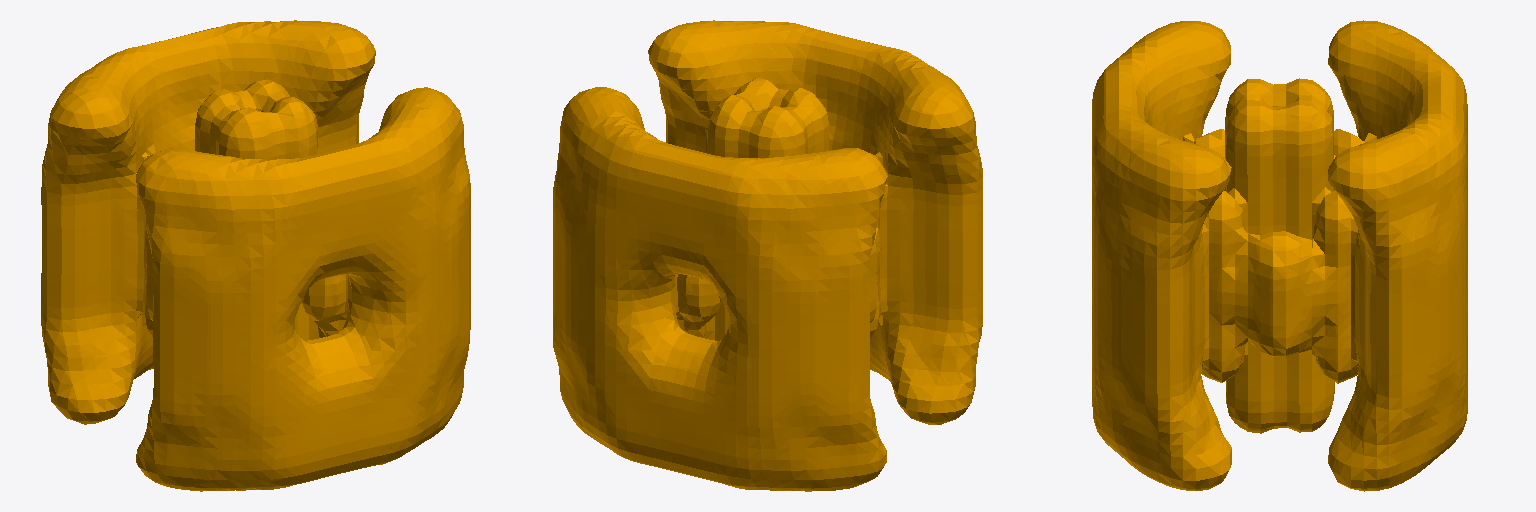
robot.urdf — object:
<?xml version="1.0"?>
<robot name="object">
  <link name="object">
    <visual>
      <origin xyz="0 0 0"/>
      <geometry>
        <mesh filename="meshes/subset_100_scaled/egad_K15_3_s.obj" scale=".03 .03 .03"/>
      </geometry>
    </visual>
    <collision>
  <origin xyz="0 0 0"/>
  <geometry>
    <mesh filename="meshes/subset_100_scaled/egad_K15_3_s_0decompose.obj" scale=".03 .03 .03"/>
<!--          <mesh filename="meshes/custom/obj0_ball.obj" scale=".05 .05 .05"/>-->
  </geometry>
</collision><collision>
  <origin xyz="0 0 0"/>
  <geometry>
    <mesh filename="meshes/subset_100_scaled/egad_K15_3_s_1decompose.obj" scale=".03 .03 .03"/>
<!--          <mesh filename="meshes/custom/obj0_ball.obj" scale=".05 .05 .05"/>-->
  </geometry>
</collision><collision>
  <origin xyz="0 0 0"/>
  <geometry>
    <mesh filename="meshes/subset_100_scaled/egad_K15_3_s_2decompose.obj" scale=".03 .03 .03"/>
<!--          <mesh filename="meshes/custom/obj0_ball.obj" scale=".05 .05 .05"/>-->
  </geometry>
</collision><collision>
  <origin xyz="0 0 0"/>
  <geometry>
    <mesh filename="meshes/subset_100_scaled/egad_K15_3_s_3decompose.obj" scale=".03 .03 .03"/>
<!--          <mesh filename="meshes/custom/obj0_ball.obj" scale=".05 .05 .05"/>-->
  </geometry>
</collision><collision>
  <origin xyz="0 0 0"/>
  <geometry>
    <mesh filename="meshes/subset_100_scaled/egad_K15_3_s_4decompose.obj" scale=".03 .03 .03"/>
<!--          <mesh filename="meshes/custom/obj0_ball.obj" scale=".05 .05 .05"/>-->
  </geometry>
</collision><collision>
  <origin xyz="0 0 0"/>
  <geometry>
    <mesh filename="meshes/subset_100_scaled/egad_K15_3_s_5decompose.obj" scale=".03 .03 .03"/>
<!--          <mesh filename="meshes/custom/obj0_ball.obj" scale=".05 .05 .05"/>-->
  </geometry>
</collision><collision>
  <origin xyz="0 0 0"/>
  <geometry>
    <mesh filename="meshes/subset_100_scaled/egad_K15_3_s_6decompose.obj" scale=".03 .03 .03"/>
<!--          <mesh filename="meshes/custom/obj0_ball.obj" scale=".05 .05 .05"/>-->
  </geometry>
</collision><collision>
  <origin xyz="0 0 0"/>
  <geometry>
    <mesh filename="meshes/subset_100_scaled/egad_K15_3_s_7decompose.obj" scale=".03 .03 .03"/>
<!--          <mesh filename="meshes/custom/obj0_ball.obj" scale=".05 .05 .05"/>-->
  </geometry>
</collision><collision>
  <origin xyz="0 0 0"/>
  <geometry>
    <mesh filename="meshes/subset_100_scaled/egad_K15_3_s_8decompose.obj" scale=".03 .03 .03"/>
<!--          <mesh filename="meshes/custom/obj0_ball.obj" scale=".05 .05 .05"/>-->
  </geometry>
</collision><collision>
  <origin xyz="0 0 0"/>
  <geometry>
    <mesh filename="meshes/subset_100_scaled/egad_K15_3_s_9decompose.obj" scale=".03 .03 .03"/>
<!--          <mesh filename="meshes/custom/obj0_ball.obj" scale=".05 .05 .05"/>-->
  </geometry>
</collision><collision>
  <origin xyz="0 0 0"/>
  <geometry>
    <mesh filename="meshes/subset_100_scaled/egad_K15_3_s_10decompose.obj" scale=".03 .03 .03"/>
<!--          <mesh filename="meshes/custom/obj0_ball.obj" scale=".05 .05 .05"/>-->
  </geometry>
</collision><collision>
  <origin xyz="0 0 0"/>
  <geometry>
    <mesh filename="meshes/subset_100_scaled/egad_K15_3_s_11decompose.obj" scale=".03 .03 .03"/>
<!--          <mesh filename="meshes/custom/obj0_ball.obj" scale=".05 .05 .05"/>-->
  </geometry>
</collision><collision>
  <origin xyz="0 0 0"/>
  <geometry>
    <mesh filename="meshes/subset_100_scaled/egad_K15_3_s_12decompose.obj" scale=".03 .03 .03"/>
<!--          <mesh filename="meshes/custom/obj0_ball.obj" scale=".05 .05 .05"/>-->
  </geometry>
</collision><collision>
  <origin xyz="0 0 0"/>
  <geometry>
    <mesh filename="meshes/subset_100_scaled/egad_K15_3_s_13decompose.obj" scale=".03 .03 .03"/>
<!--          <mesh filename="meshes/custom/obj0_ball.obj" scale=".05 .05 .05"/>-->
  </geometry>
</collision><collision>
  <origin xyz="0 0 0"/>
  <geometry>
    <mesh filename="meshes/subset_100_scaled/egad_K15_3_s_14decompose.obj" scale=".03 .03 .03"/>
<!--          <mesh filename="meshes/custom/obj0_ball.obj" scale=".05 .05 .05"/>-->
  </geometry>
</collision><collision>
  <origin xyz="0 0 0"/>
  <geometry>
    <mesh filename="meshes/subset_100_scaled/egad_K15_3_s_15decompose.obj" scale=".03 .03 .03"/>
<!--          <mesh filename="meshes/custom/obj0_ball.obj" scale=".05 .05 .05"/>-->
  </geometry>
</collision><collision>
  <origin xyz="0 0 0"/>
  <geometry>
    <mesh filename="meshes/subset_100_scaled/egad_K15_3_s_16decompose.obj" scale=".03 .03 .03"/>
<!--          <mesh filename="meshes/custom/obj0_ball.obj" scale=".05 .05 .05"/>-->
  </geometry>
</collision><collision>
  <origin xyz="0 0 0"/>
  <geometry>
    <mesh filename="meshes/subset_100_scaled/egad_K15_3_s_17decompose.obj" scale=".03 .03 .03"/>
<!--          <mesh filename="meshes/custom/obj0_ball.obj" scale=".05 .05 .05"/>-->
  </geometry>
</collision><collision>
  <origin xyz="0 0 0"/>
  <geometry>
    <mesh filename="meshes/subset_100_scaled/egad_K15_3_s_18decompose.obj" scale=".03 .03 .03"/>
<!--          <mesh filename="meshes/custom/obj0_ball.obj" scale=".05 .05 .05"/>-->
  </geometry>
</collision><collision>
  <origin xyz="0 0 0"/>
  <geometry>
    <mesh filename="meshes/subset_100_scaled/egad_K15_3_s_19decompose.obj" scale=".03 .03 .03"/>
<!--          <mesh filename="meshes/custom/obj0_ball.obj" scale=".05 .05 .05"/>-->
  </geometry>
</collision><collision>
  <origin xyz="0 0 0"/>
  <geometry>
    <mesh filename="meshes/subset_100_scaled/egad_K15_3_s_20decompose.obj" scale=".03 .03 .03"/>
<!--          <mesh filename="meshes/custom/obj0_ball.obj" scale=".05 .05 .05"/>-->
  </geometry>
</collision><collision>
  <origin xyz="0 0 0"/>
  <geometry>
    <mesh filename="meshes/subset_100_scaled/egad_K15_3_s_21decompose.obj" scale=".03 .03 .03"/>
<!--          <mesh filename="meshes/custom/obj0_ball.obj" scale=".05 .05 .05"/>-->
  </geometry>
</collision>

<!--    <collision>-->
<!--      <origin xyz="0 0 0"/>-->
<!--      <geometry>-->
<!--        <mesh filename="meshes/subset_100_scaled/egad_K15_3_s.obj" scale=".03 .03 .03"/>-->
<!--&lt;!&ndash;          <mesh filename="meshes/custom/obj0_ball.obj" scale=".05 .05 .05"/>&ndash;&gt;-->
<!--      </geometry>-->
<!--    </collision>-->
    <inertial>
      <density value="1000.0"/>
    </inertial>
  </link>
</robot>

--- What the picture shows (computed from the rendered views, not written in the file) ---
The picture shows the robot from 3 angles, left to right: view 1: azimuth 30°, elevation 25°; view 2: azimuth 150°, elevation 25°; view 3: azimuth 270°, elevation 25°; orthographic projection.
Model object with 1 links and 0 joints (none), rooted at object, posed every joint at zero.
Visible links, largest first — view 1: object; view 2: object; view 3: object.
Link boxes in pixels (x1,y1,x2,y2): object: (41, 20, 470, 491); object: (553, 20, 982, 491); object: (1092, 20, 1467, 491).
Size in the robot's own frame: 0.06 by 0.06 by 0.06 metres.
1 mesh visuals loaded from 1 distinct referenced files (1 OBJ).
